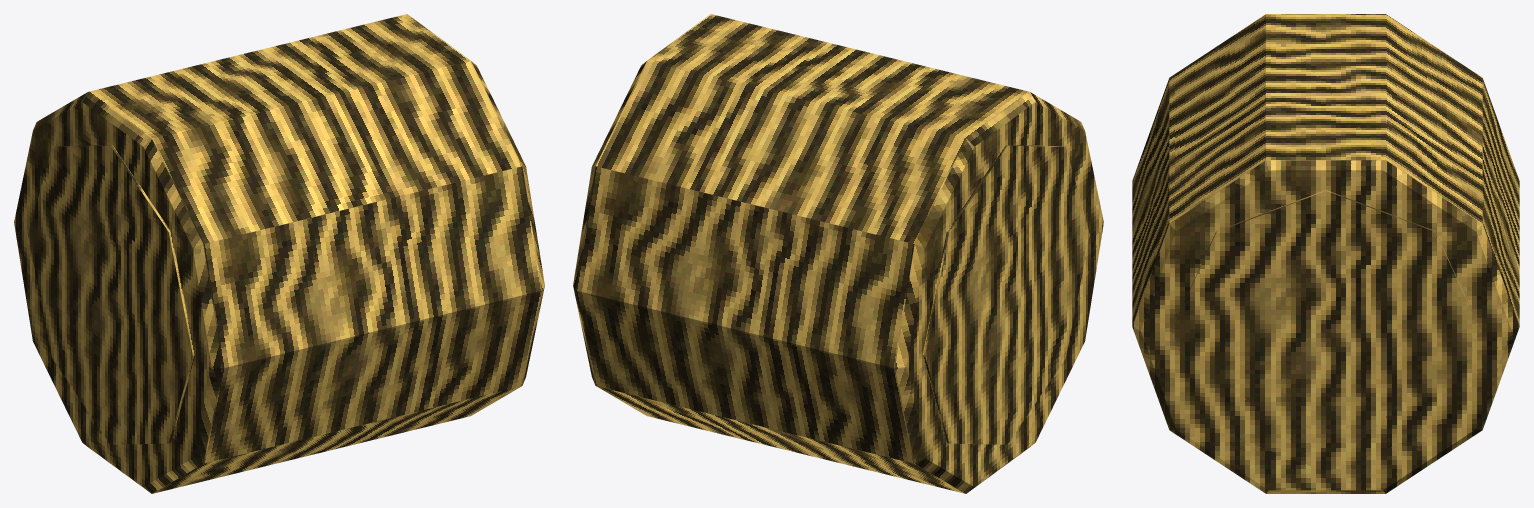
File: prop_hay_bale.glb
3 renders of one model, left to right at view 1: azimuth 30°, elevation 25°; view 2: azimuth 150°, elevation 25°; view 3: azimuth 270°, elevation 25°, orthographic. The views are drawn at different scales.
Parts seen in each view (by area): view 1: prop_hay_bale_mesh; view 2: prop_hay_bale_mesh; view 3: prop_hay_bale_mesh.
Part boxes in pixels (box(x1,y1,x2,y2)): prop_hay_bale_mesh: box(14, 14, 544, 493); prop_hay_bale_mesh: box(573, 14, 1103, 493); prop_hay_bale_mesh: box(1132, 14, 1519, 493).
Size of what is drawn, in the model's own units: 1.42 by 1.43 by 1.5.
1 material, 1 textured.
